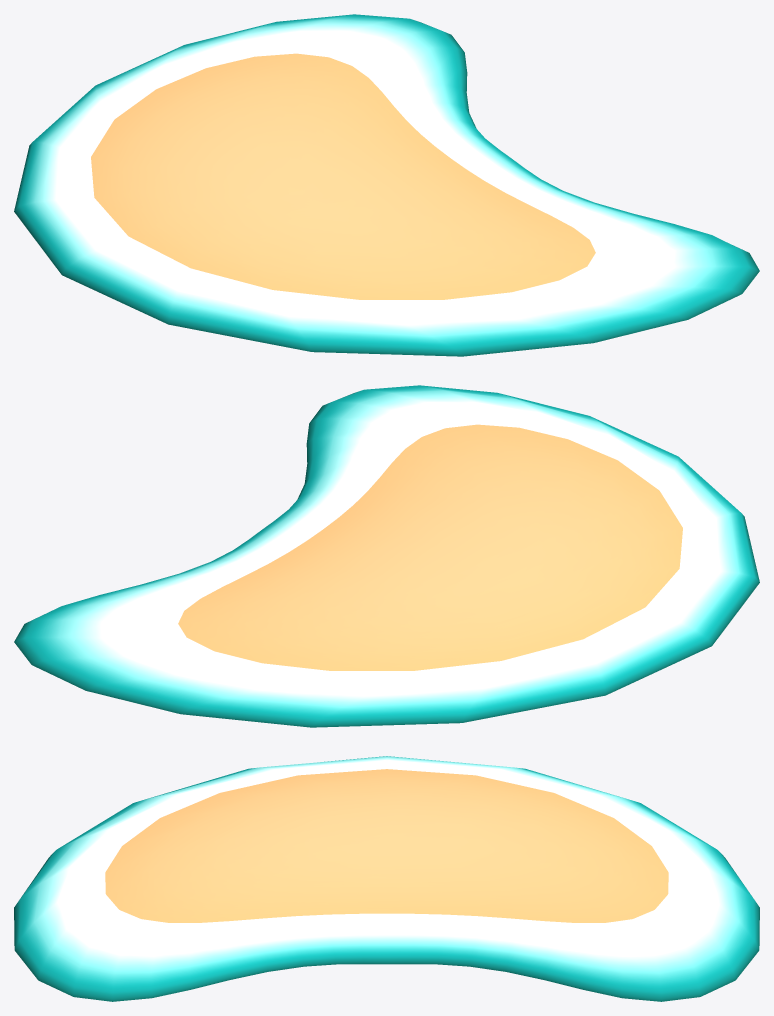
The model's file is Beach_01.glb.
3 renders of one model, top to bottom at view 1: azimuth 30°, elevation 25°; view 2: azimuth 150°, elevation 25°; view 3: azimuth 270°, elevation 25°, orthographic. The views are drawn at different scales.
Parts seen in each view (by area): view 1: Beach_01; view 2: Beach_01; view 3: Beach_01.
Part boxes in pixels (x1,y1,x2,y2): Beach_01: [14, 14, 759, 356]; Beach_01: [14, 385, 759, 727]; Beach_01: [14, 756, 759, 1001].
Size of the model in its own units: 22.19 by 1.25 by 28.9.
Materials: 1 (1 with a texture image).
